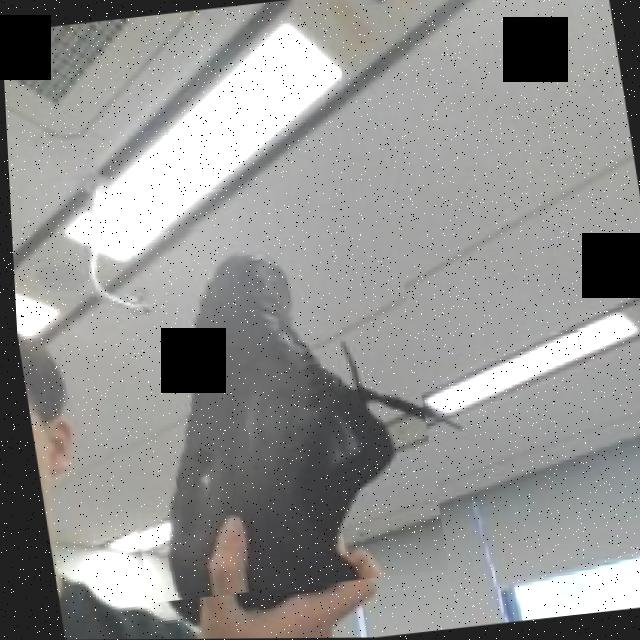shoe: (75, 204, 444, 605)
